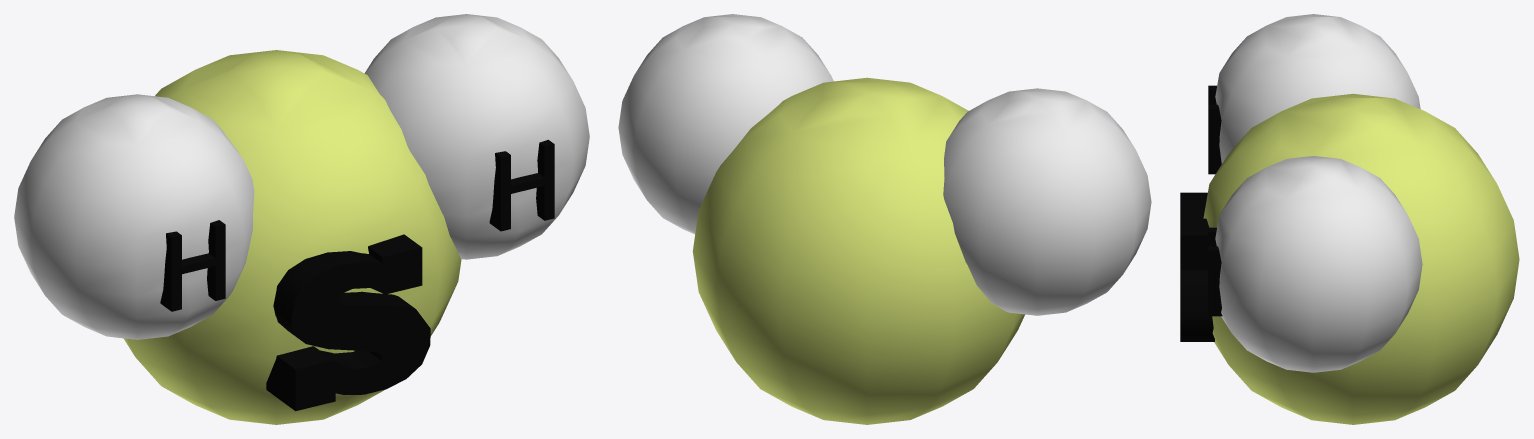
3 views of the same model, side by side, from view 1: azimuth 30°, elevation 25°; view 2: azimuth 150°, elevation 25°; view 3: azimuth 270°, elevation 25° (orthographic). The views are drawn at different scales.
Parts seen in each view (by area): view 1: pSphere1, pSphere2, pSphere3, typeMesh1, typeMesh2, typeMesh3; view 2: pSphere1, pSphere2, pSphere3; view 3: pSphere1, pSphere3, pSphere2, typeMesh1, typeMesh3, typeMesh2.
Boxes of the visible parts, x1,y1,x2,y2 form: pSphere1: (123,50,461,424); pSphere2: (14,94,254,339); pSphere3: (364,14,589,259); typeMesh1: (266,234,430,411); typeMesh2: (160,220,225,311); typeMesh3: (489,139,554,231); pSphere1: (692,77,1024,424); pSphere2: (943,88,1151,315); pSphere3: (618,14,833,234); pSphere1: (1203,93,1519,424); pSphere3: (1215,156,1422,372); pSphere2: (1215,14,1420,163); typeMesh1: (1180,192,1214,341); typeMesh3: (1208,227,1222,316); typeMesh2: (1208,85,1221,174).
Size of the model in its own units: 114 by 71.83 by 69.72.
